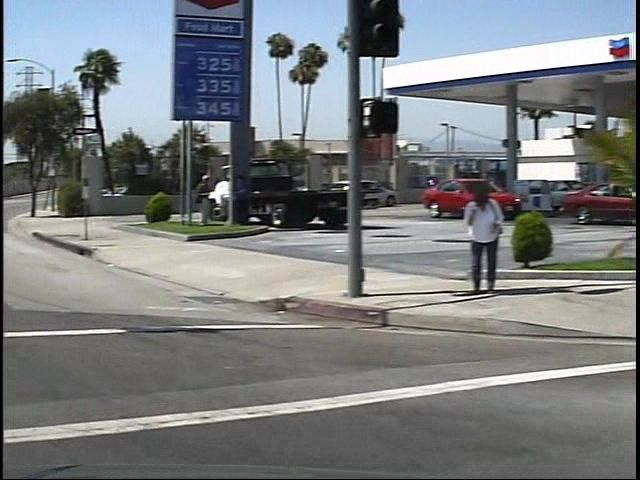person: (448, 180, 492, 297), (184, 171, 207, 230)
